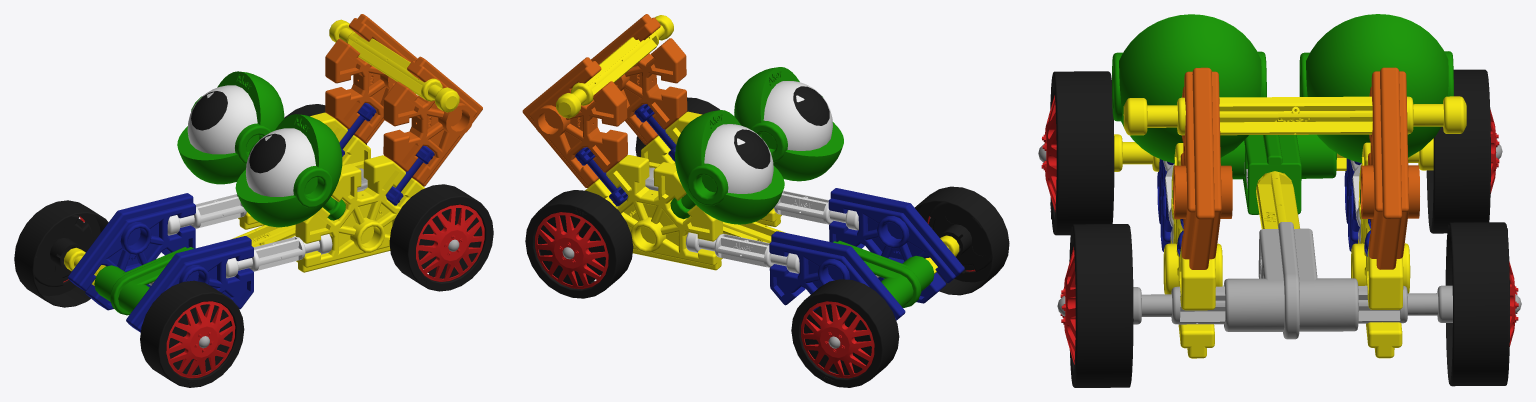
The picture shows the model from 3 angles, left to right: view 1: azimuth 30°, elevation 25°; view 2: azimuth 150°, elevation 25°; view 3: azimuth 270°, elevation 25°; orthographic projection. The views are drawn at different scales.
Parts seen in each view (by area): view 1: Untitled.5432, Untitled.5423, Untitled.5418, Untitled.5442, Untitled.5413, Untitled.5437, Untitled.5424, Untitled.5441, Untitled.5402, Untitled.5412, Untitled.5436, Untitled.5419 (+15 smaller); view 2: Untitled.5434, Untitled.5424, Untitled.5441, Untitled.5437, Untitled.5420, Untitled.5418, Untitled.5423, Untitled.5442, Untitled.5408, Untitled.5417, Untitled.5415, Untitled.5402 (+17 smaller); view 3: Untitled.5430, Untitled.5420, Untitled.5413, Untitled.5419, Untitled.5437, Untitled.5423, Untitled.5424, Untitled.5418, Untitled.5402, Untitled.5408, Untitled.5440, Untitled.5404 (+13 smaller).
Part boxes in pixels (x1=…): Untitled.5432: x1=295, y1=155, x2=424, y2=272; Untitled.5423: x1=383, y1=56, x2=482, y2=186; Untitled.5418: x1=14, y1=200, x2=108, y2=307; Untitled.5442: x1=68, y1=193, x2=195, y2=310; Untitled.5413: x1=389, y1=184, x2=493, y2=291; Untitled.5437: x1=140, y1=280, x2=244, y2=387; Untitled.5424: x1=325, y1=14, x2=417, y2=143; Untitled.5441: x1=126, y1=236, x2=253, y2=332; Untitled.5402: x1=235, y1=114, x2=345, y2=227; Untitled.5412: x1=416, y1=204, x2=484, y2=281; Untitled.5436: x1=166, y1=301, x2=235, y2=378; Untitled.5419: x1=329, y1=19, x2=459, y2=112; Untitled.5434: x1=585, y1=155, x2=723, y2=270; Untitled.5424: x1=522, y1=57, x2=627, y2=187; Untitled.5441: x1=828, y1=188, x2=964, y2=303; Untitled.5437: x1=914, y1=186, x2=1009, y2=295; Untitled.5420: x1=525, y1=190, x2=633, y2=298; Untitled.5418: x1=791, y1=279, x2=899, y2=387; Untitled.5423: x1=591, y1=14, x2=687, y2=144; Untitled.5442: x1=769, y1=231, x2=905, y2=320; Untitled.5408: x1=670, y1=110, x2=784, y2=224; Untitled.5417: x1=801, y1=301, x2=874, y2=378; Untitled.5415: x1=535, y1=212, x2=608, y2=289; Untitled.5402: x1=734, y1=67, x2=843, y2=181; Untitled.5430: x1=1223, y1=222, x2=1358, y2=339; Untitled.5420: x1=1445, y1=222, x2=1509, y2=386; Untitled.5413: x1=1069, y1=224, x2=1133, y2=387; Untitled.5419: x1=1123, y1=96, x2=1466, y2=135; Untitled.5437: x1=1050, y1=71, x2=1114, y2=235; Untitled.5423: x1=1173, y1=67, x2=1232, y2=269; Untitled.5424: x1=1360, y1=67, x2=1419, y2=269; Untitled.5418: x1=1426, y1=69, x2=1490, y2=233; Untitled.5402: x1=1113, y1=51, x2=1266, y2=204; Untitled.5408: x1=1300, y1=51, x2=1453, y2=204; Untitled.5440: x1=1220, y1=134, x2=1336, y2=214; Untitled.5404: x1=1119, y1=14, x2=1261, y2=75.
Size of the model in its own units: 1.85 by 1.09 by 1.27.
